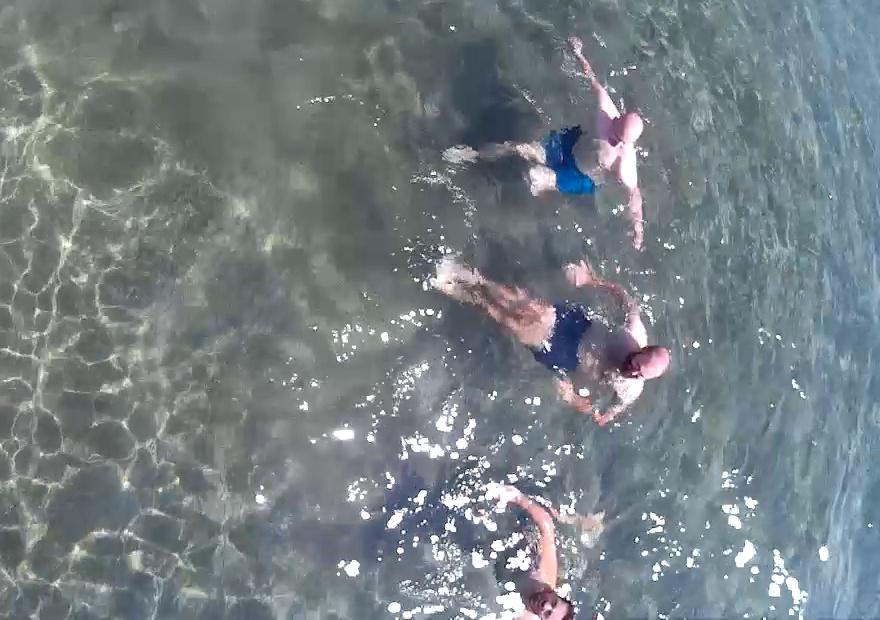human: (422, 232, 659, 444), (489, 53, 652, 235), (1, 1, 1, 1)
